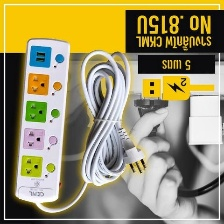three_eye_plug: (13, 36, 76, 207)
